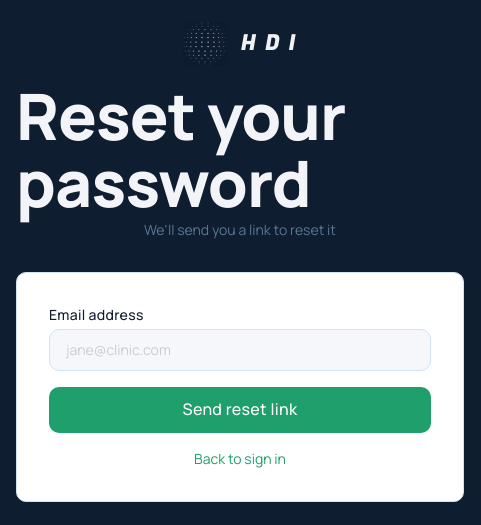
Scenario: ForgotPassword page › shows success confirmation after email is sent
Type "user@clinic.com" into the field with placeholder "jane@clinic.com" at (240, 350), box [49,329,431,371]
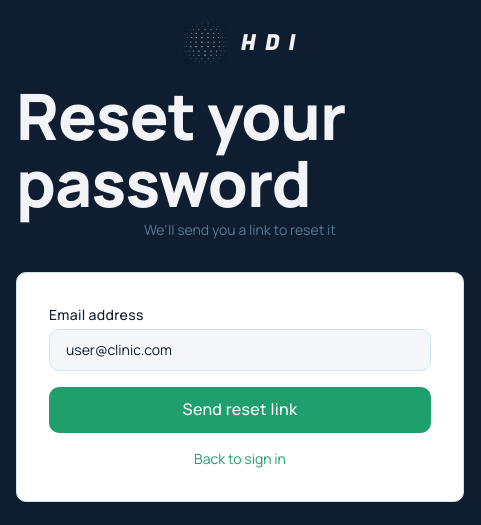
Click the button "Send reset link" at (240, 410), box [49,387,431,433]
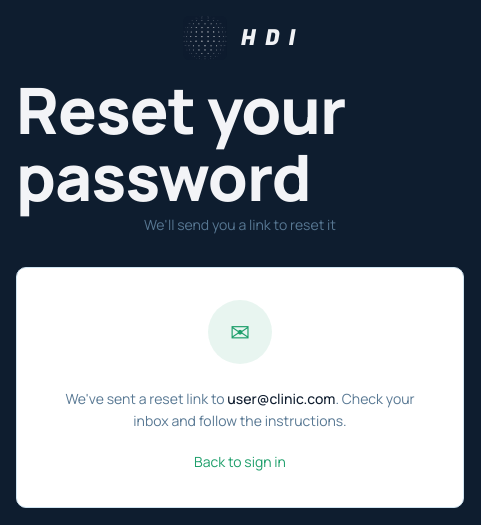
Expected: the text "We've sent a reset link" is shown, [65,389,227,408]
